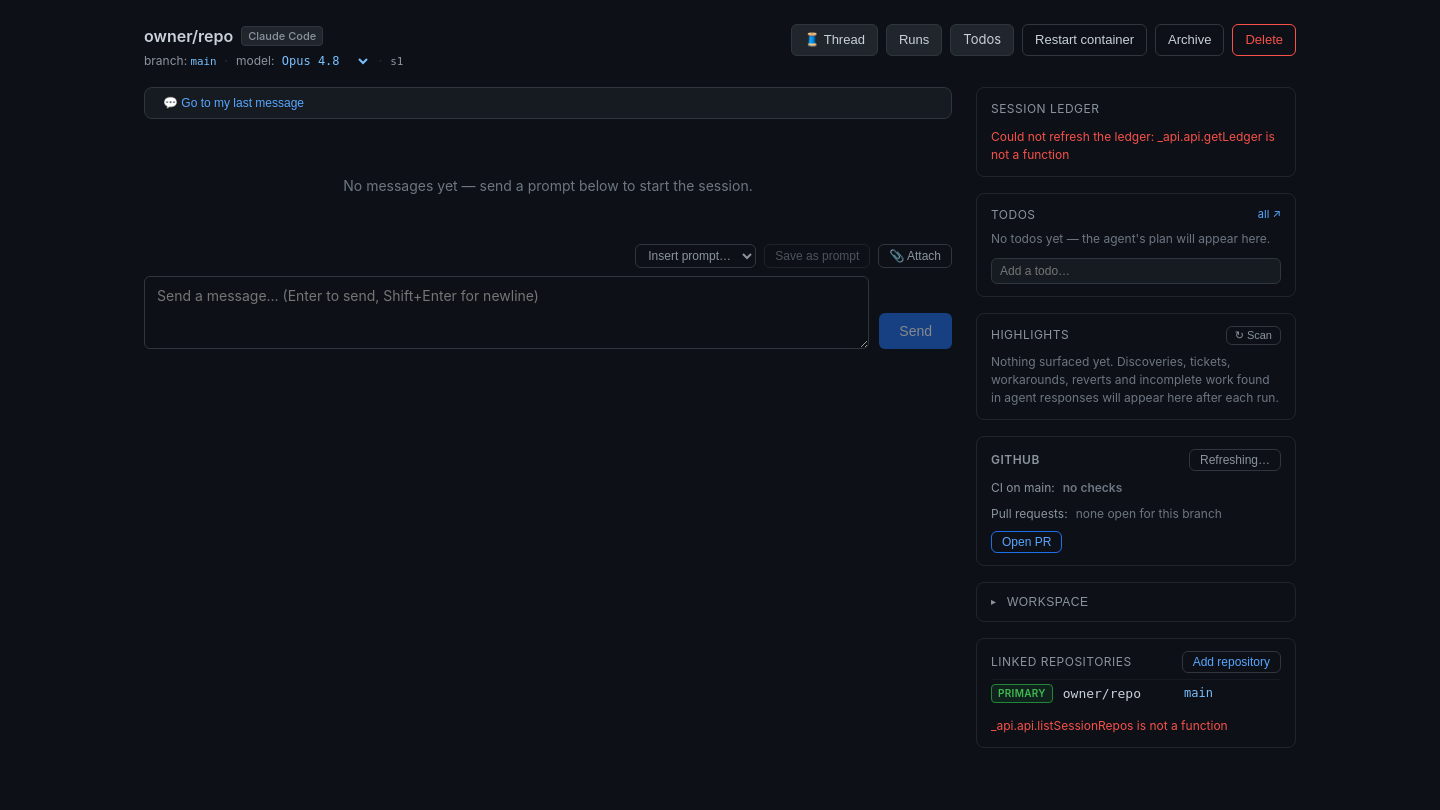
Test case: SessionDetail template modal › opens a field per placeholder and inserts the server-rendered text
Select "Greeting" in the dropdown named "Insert a saved prompt" at (696, 256), box top-left (635, 244), bottom-right (756, 268)
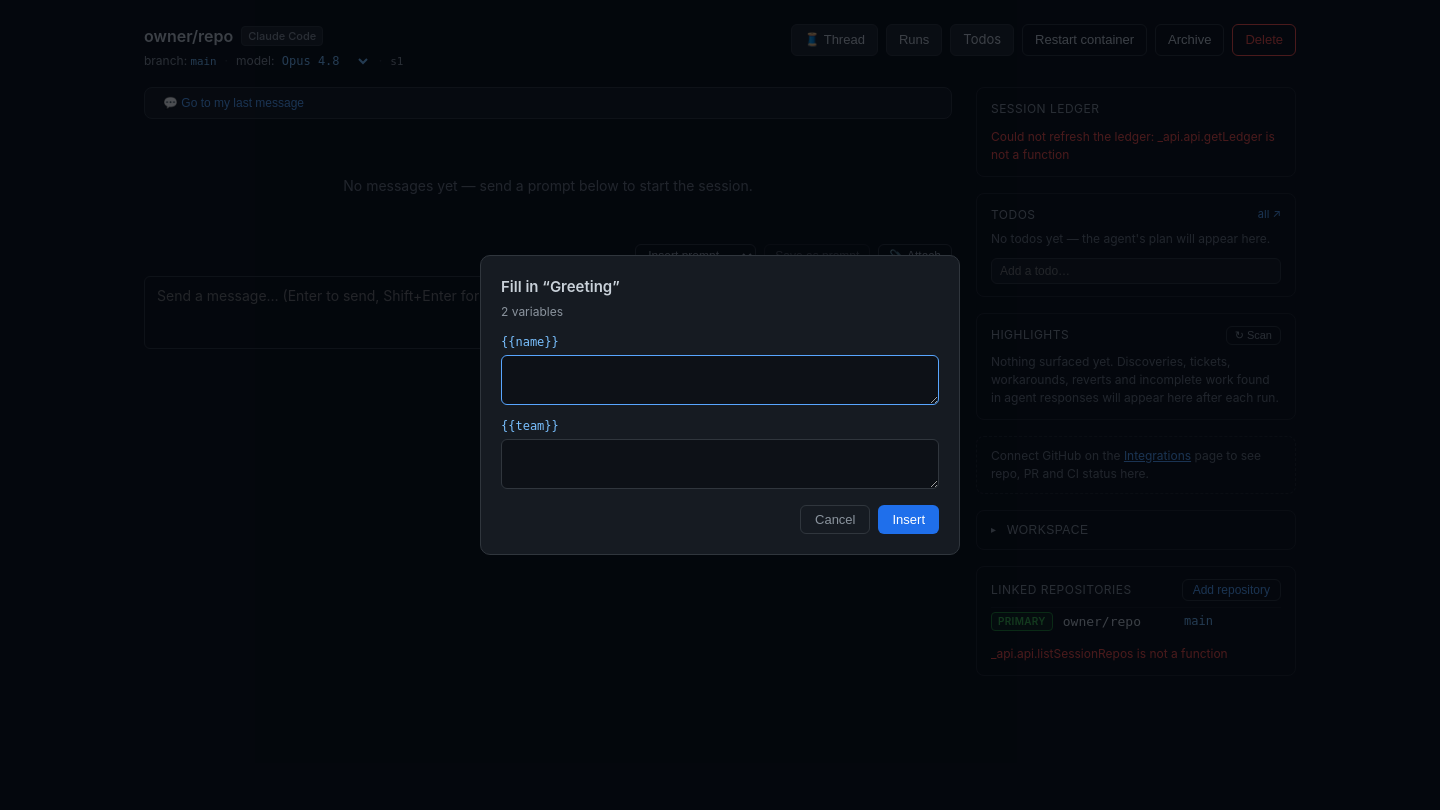
Type "Nic" into the text box labelled "{{name}}" at (720, 380), box top-left (501, 355), bottom-right (939, 405)
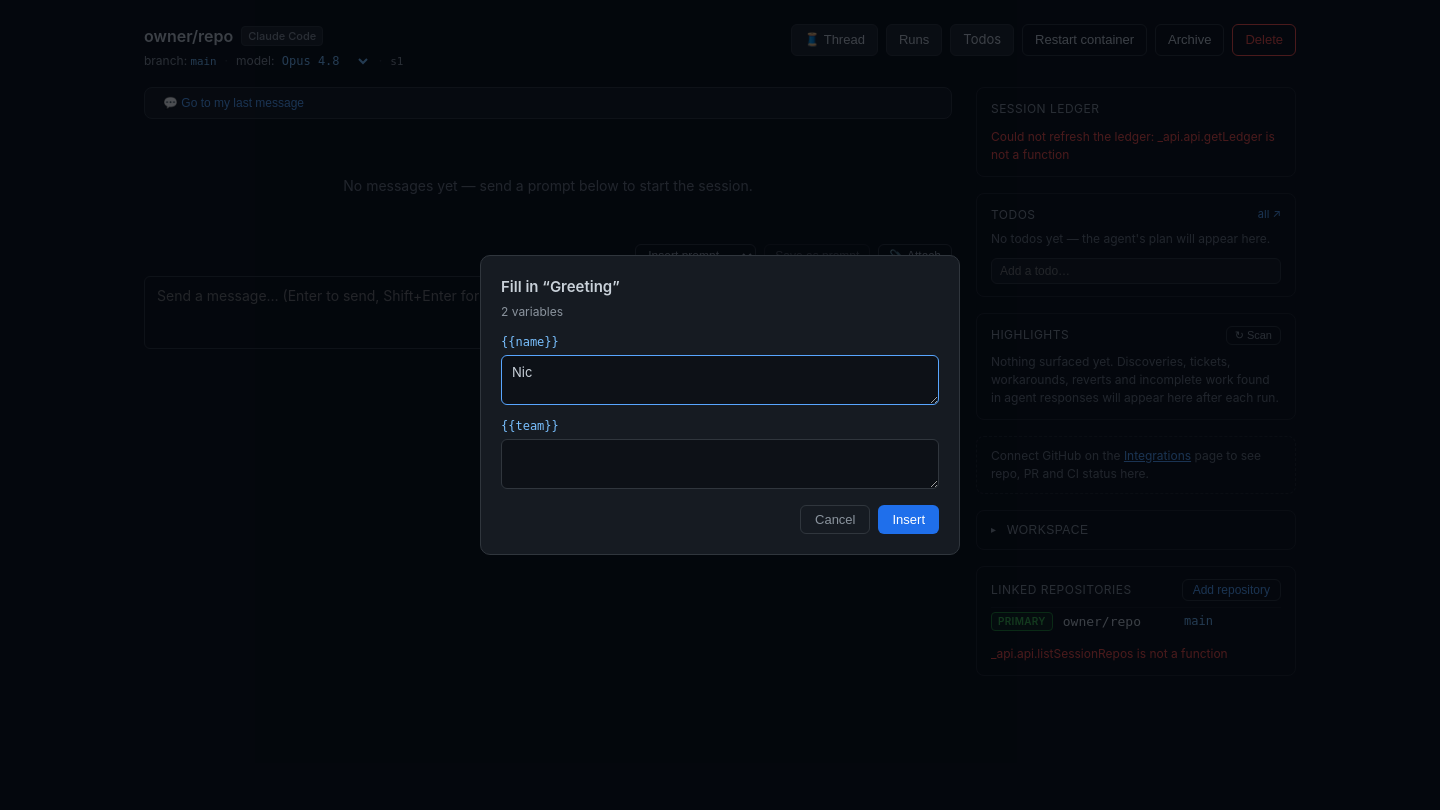
Type "Core" into the text box labelled "{{team}}" at (720, 464), box top-left (501, 439), bottom-right (939, 489)
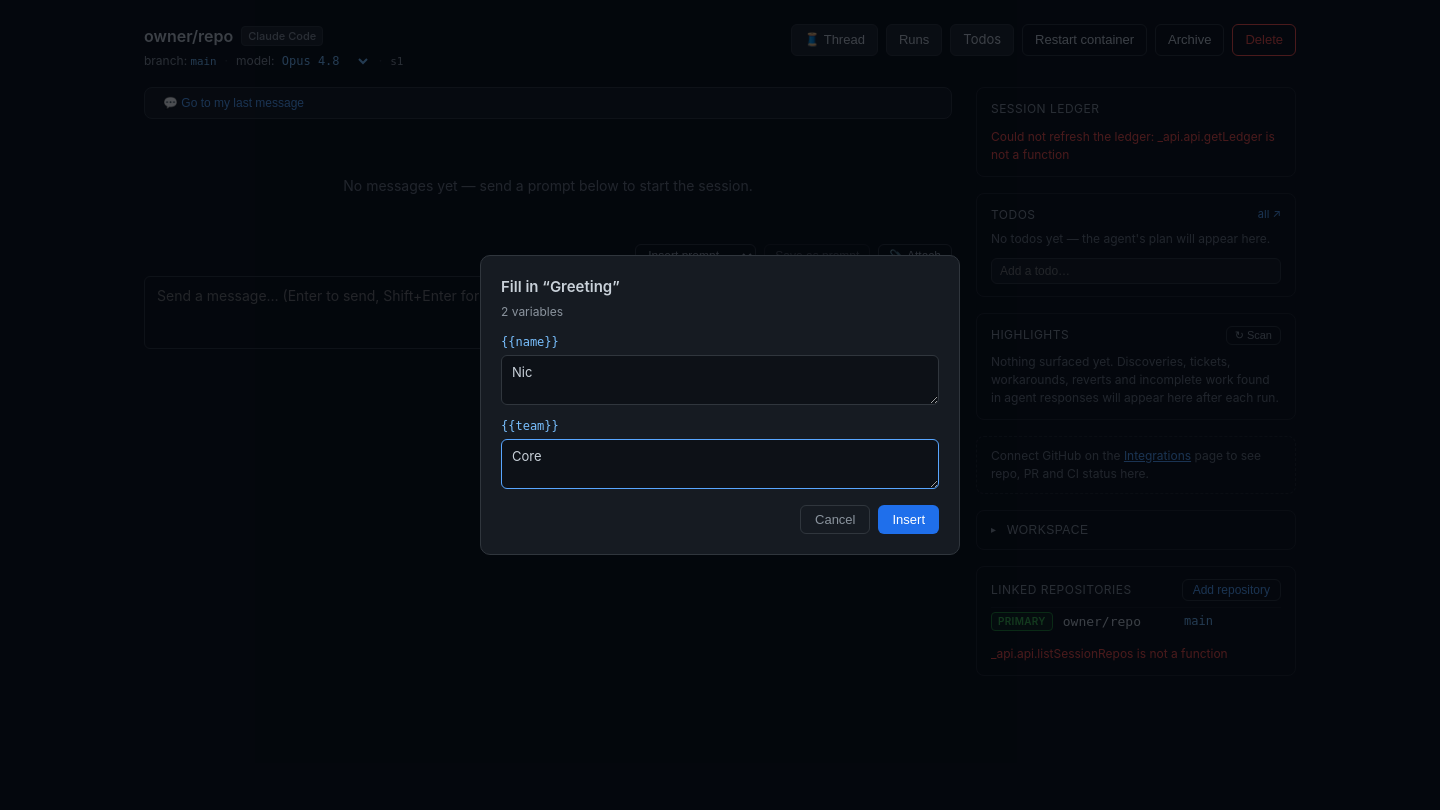
Click the button "Insert" at (909, 519), box top-left (878, 505), bottom-right (939, 534)
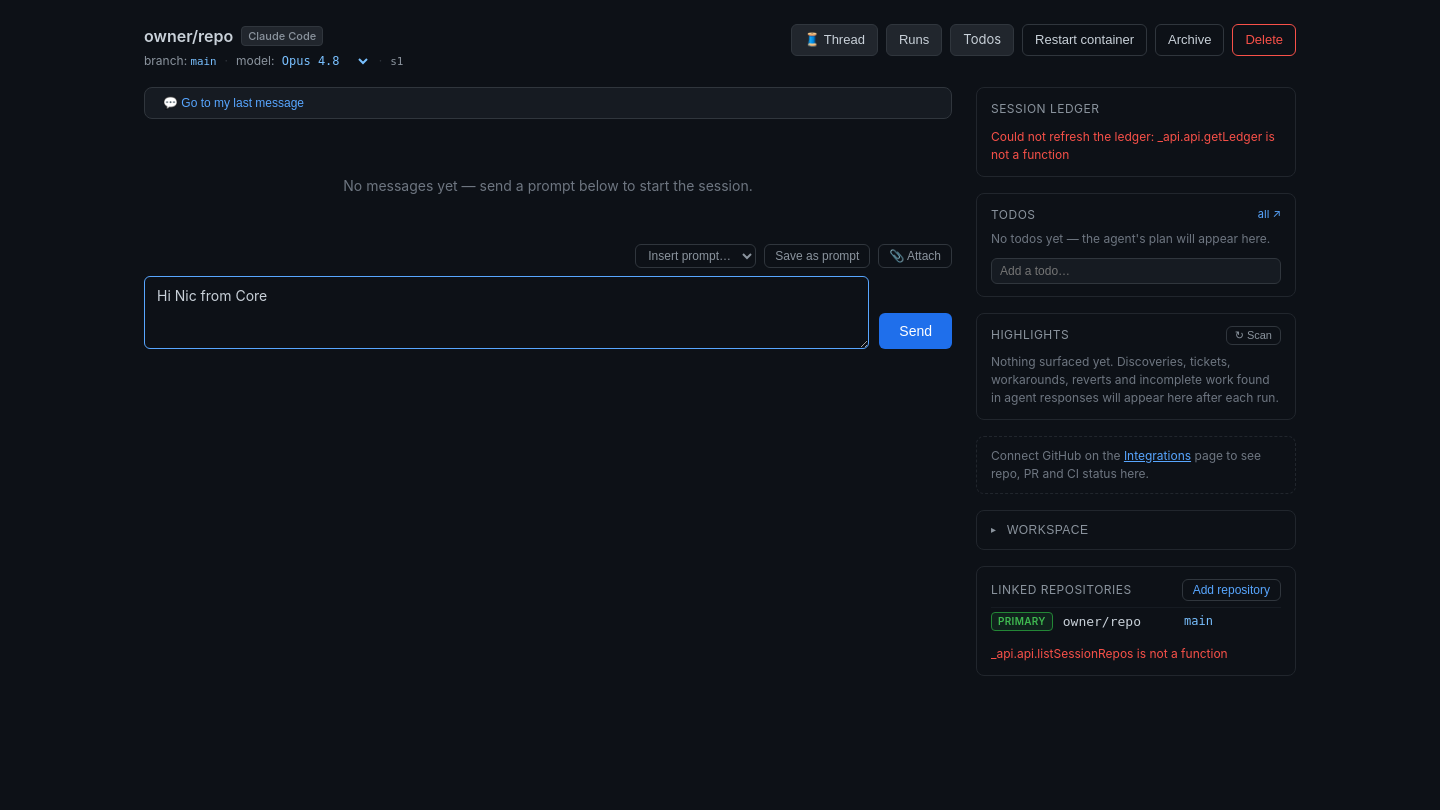
Result: the text box showing "Hi Nic from Core" is shown at top-left (144, 276), bottom-right (869, 348)
Result: the dialog is gone
